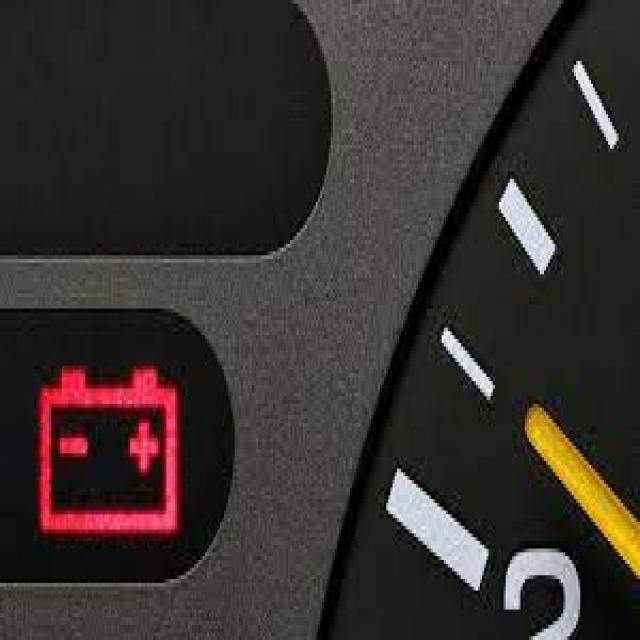kontrolka: (30, 346, 189, 550)
